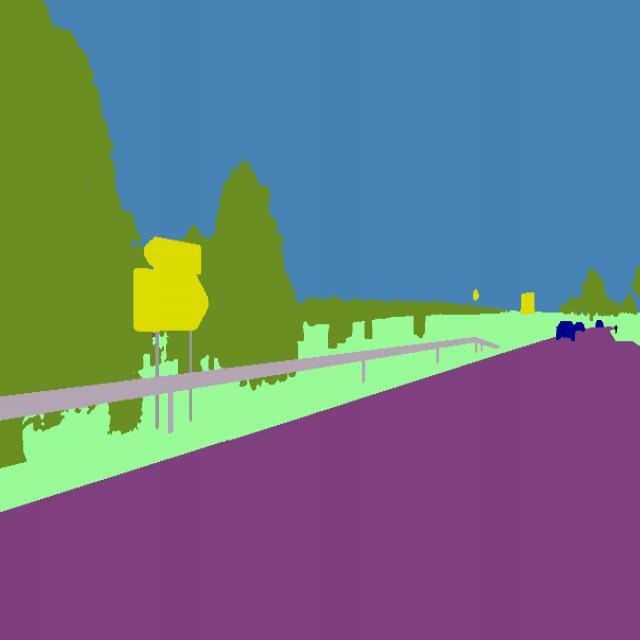safe: (554, 318, 576, 343), (574, 320, 588, 333), (594, 317, 606, 331)
